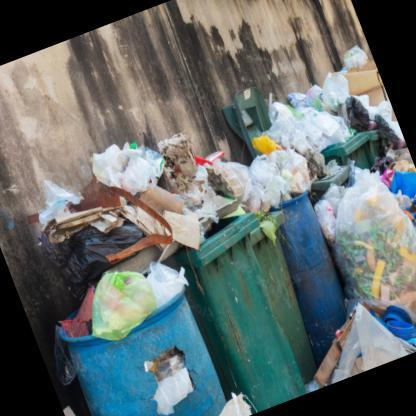Garbage: (21, 139, 190, 296), (309, 168, 415, 344), (288, 271, 415, 390), (136, 121, 258, 244), (52, 246, 186, 340), (310, 40, 394, 138), (260, 79, 348, 159), (235, 134, 316, 206), (377, 156, 415, 206), (369, 100, 404, 149)
